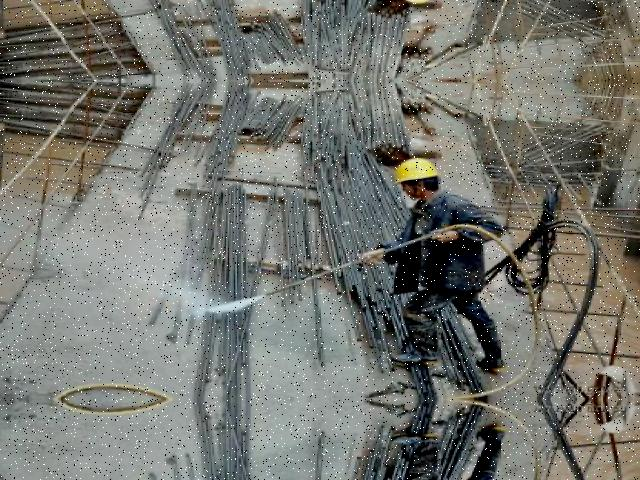Helmet: (384, 154, 445, 188)
